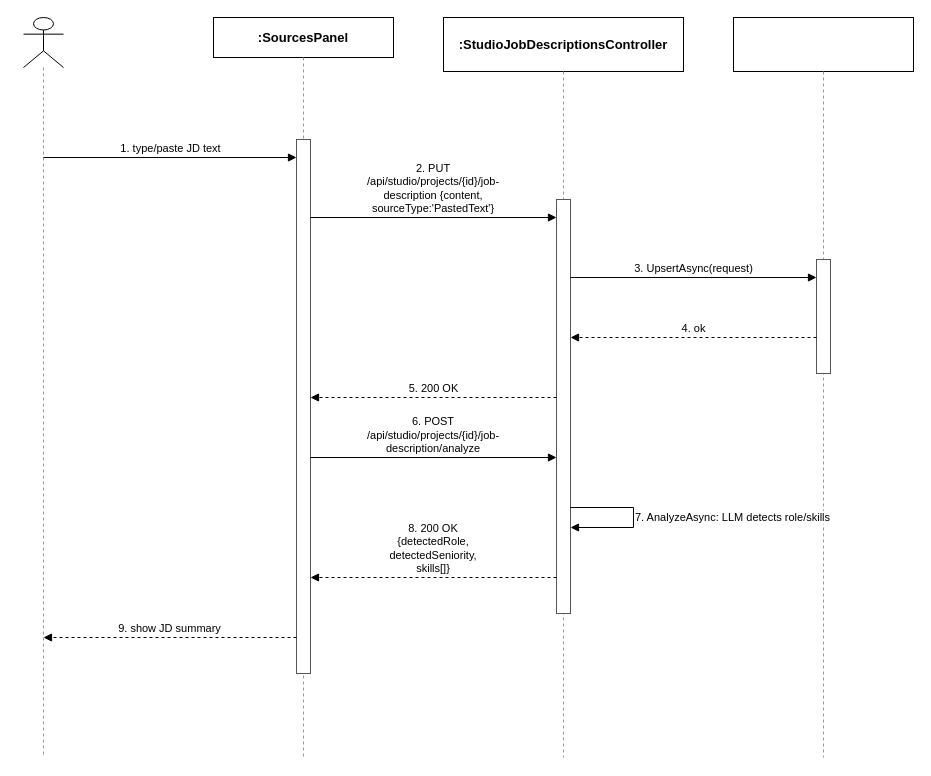
Image size: 931x776. Some labels were removed from this diagram. Each missing label, with the centre of its shape:
:JobDescriptionService: [823,44]
HR Manager: [43,42]
